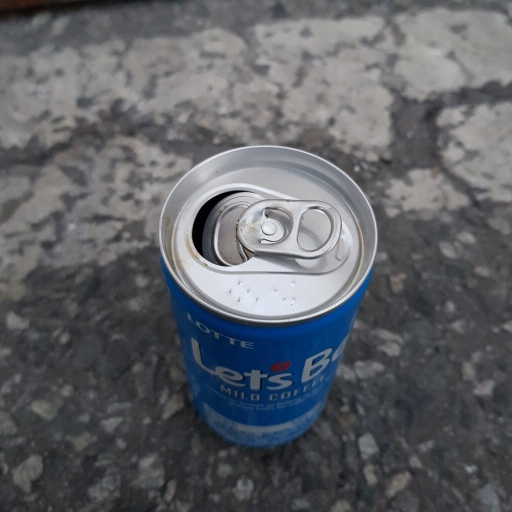Metal_0: (158, 143, 380, 448)
